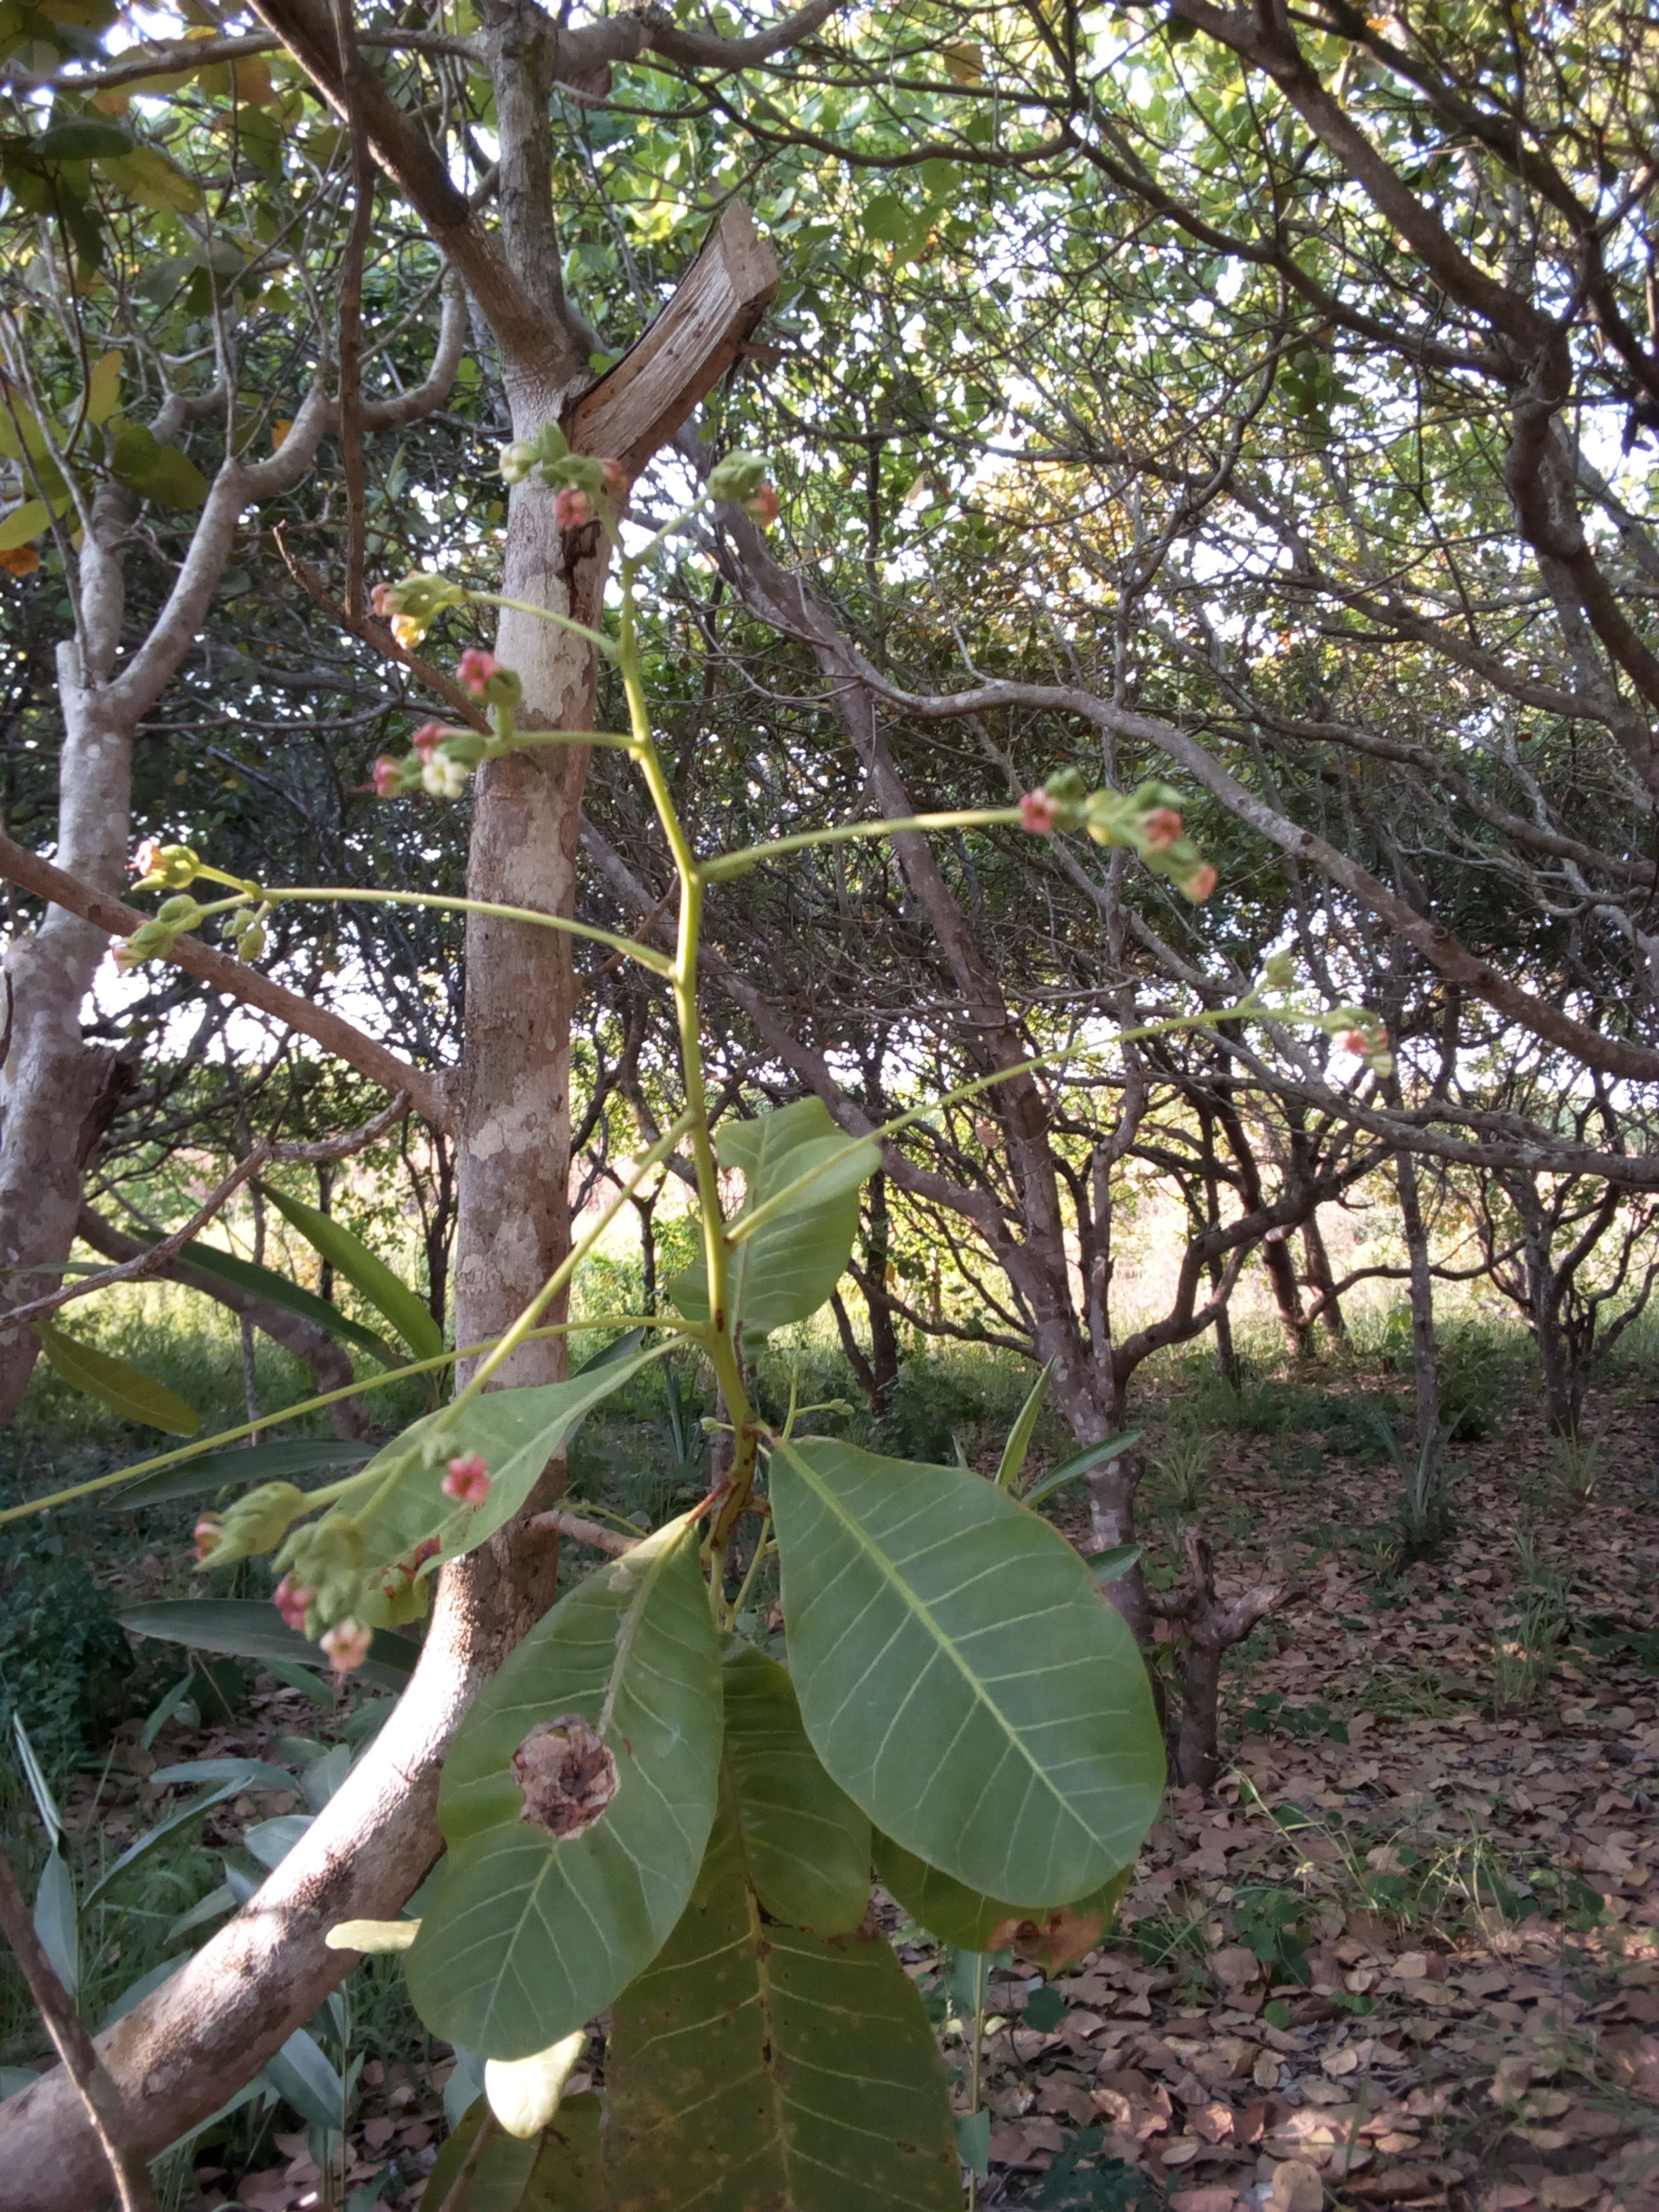Dysdercus wolkerii: (366, 1493, 732, 2066)
